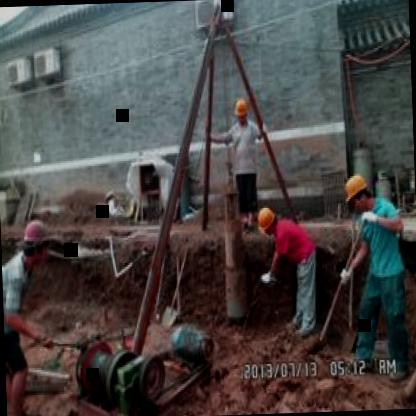helmet: (344, 170, 373, 216), (21, 220, 50, 266), (252, 204, 282, 239), (233, 94, 252, 127)
